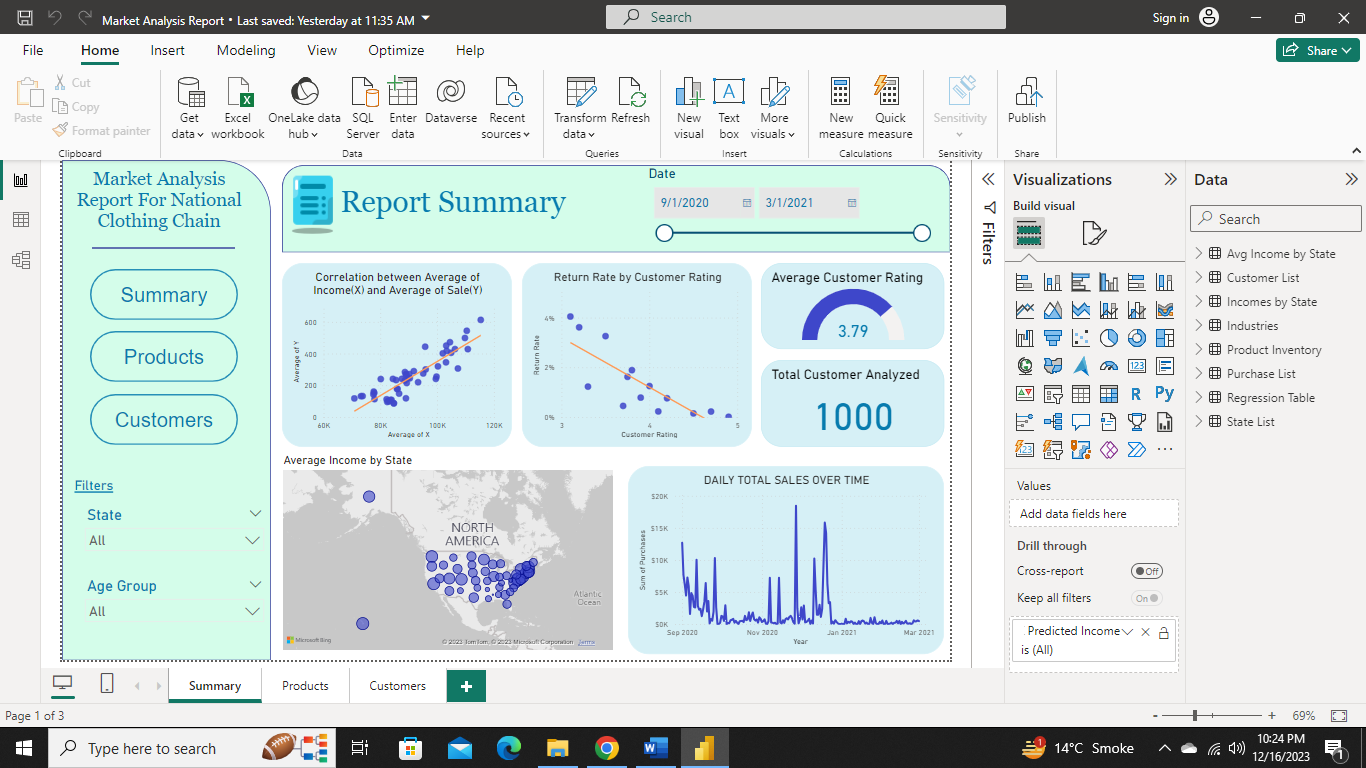

Layout of this report page (visuals, bound fields, positions):
{"tool":"powerbi","page":{"name":"Summary","canvas":[1280,720],"ordinal":0},"visuals":[{"type":"shape","box":[0,0,300.7,720.6],"z":1000},{"type":"shape","box":[317.5,6.7,962.5,126],"z":2000},{"type":"textbox","box":[13,7.2,253.4,126.7],"z":3000},{"type":"shape","box":[43.2,70.6,205.9,112.3],"z":4000},{"type":"actionButton","box":[40.3,157,213.1,73.4],"z":5000},{"type":"actionButton","box":[40.3,246.2,213.1,73.4],"z":6000},{"type":"actionButton","box":[40.3,336.8,213.1,73.4],"z":7000},{"type":"slicer","title":"  Date","fields":{"Values":["Purchase List.Date"]},"box":[839.5,7.2,420.5,110.9],"z":8000},{"type":"slicer","fields":{"Values":["State List.State"]},"box":[23,493.9,277.9,90.7],"z":9000},{"type":"slicer","fields":{"Values":["Customer List.Age Bucket Label"]},"box":[23,596.2,277.9,90.7],"z":10000},{"type":"scatterChart","title":"Correlation between Average of Income(X) and Average of Sale(Y)","fields":{"X":["Regression Table.X"],"Y":["Regression Table.Y"],"Category":["Regression Table.State"]},"box":[316.8,148.3,331.2,265],"z":11000},{"type":"gauge","title":"Average Customer Rating","fields":{"Y":["Product Inventory.Customer Rating"],"MaxValue":["Sum(Product Inventory.Customer Rating)1"]},"box":[1006.6,148.3,263.5,123.8],"z":12000},{"type":"card","title":"Total Customer Analyzed","fields":{"Values":["Purchase List.Customer ID"]},"box":[1006.6,288,263.5,125.3],"z":13000},{"type":"scatterChart","title":"Return Rate by Customer Rating","fields":{"Y":["Product Inventory.Return Rate"],"X":["Product Inventory.Customer Rating"]},"box":[662.4,148.3,331.2,265],"z":14000},{"type":"map","title":"Average Income by State","fields":{"Category":["Avg Income by State.State"],"Size":["Avg Income by State.Average Income"]},"box":[313.9,421.9,483.8,289.4],"z":15000},{"type":"textbox","box":[396,30.2,367.2,73.4],"z":16000},{"type":"lineChart","title":"DAILY TOTAL SALES OVER TIME","fields":{"Y":["Purchase List.Purchases"],"Category":["Purchase List.Date.Variation.Date Hierarchy.Year","Purchase List.Date.Variation.Date Hierarchy.Month","Purchase List.Date.Variation.Date Hierarchy.Day"]},"box":[815,440.6,455,270.7],"z":17000},{"type":"image","box":[306.7,7.2,108,103.7],"z":18000},{"type":"textbox","box":[13,452.2,221.8,41.8],"z":19000}]}

Visuals, with their boxes on the page's 1280x720 design canvas (x1, y1, x2, y2). These are canvas units, not pixel positions in the 1366x768 screenshot, which may show the page scaled, cropped or inside an application window:
shape: pyautogui.locateOnScreen(0, 0, 301, 721)
shape: pyautogui.locateOnScreen(318, 7, 1280, 133)
textbox: pyautogui.locateOnScreen(13, 7, 266, 134)
shape: pyautogui.locateOnScreen(43, 71, 249, 183)
actionButton: pyautogui.locateOnScreen(40, 157, 253, 230)
actionButton: pyautogui.locateOnScreen(40, 246, 253, 320)
actionButton: pyautogui.locateOnScreen(40, 337, 253, 410)
"  Date" slicer: pyautogui.locateOnScreen(840, 7, 1260, 118)
slicer - State List.State: pyautogui.locateOnScreen(23, 494, 301, 585)
slicer - Customer List.Age Bucket Label: pyautogui.locateOnScreen(23, 596, 301, 687)
"Correlation between Average of Income(X) and Average of Sale(Y)" scatterChart: pyautogui.locateOnScreen(317, 148, 648, 413)
"Average Customer Rating" gauge: pyautogui.locateOnScreen(1007, 148, 1270, 272)
"Total Customer Analyzed" card: pyautogui.locateOnScreen(1007, 288, 1270, 413)
"Return Rate by Customer Rating" scatterChart: pyautogui.locateOnScreen(662, 148, 994, 413)
"Average Income by State" map: pyautogui.locateOnScreen(314, 422, 798, 711)
textbox: pyautogui.locateOnScreen(396, 30, 763, 104)
"DAILY TOTAL SALES OVER TIME" lineChart: pyautogui.locateOnScreen(815, 441, 1270, 711)
image: pyautogui.locateOnScreen(307, 7, 415, 111)
textbox: pyautogui.locateOnScreen(13, 452, 235, 494)
